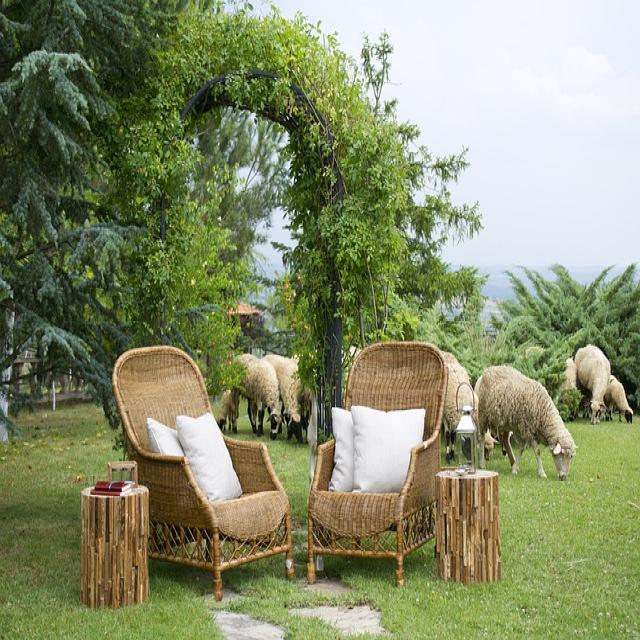goat: (475, 366, 577, 480), (568, 346, 634, 422), (233, 354, 289, 440)
